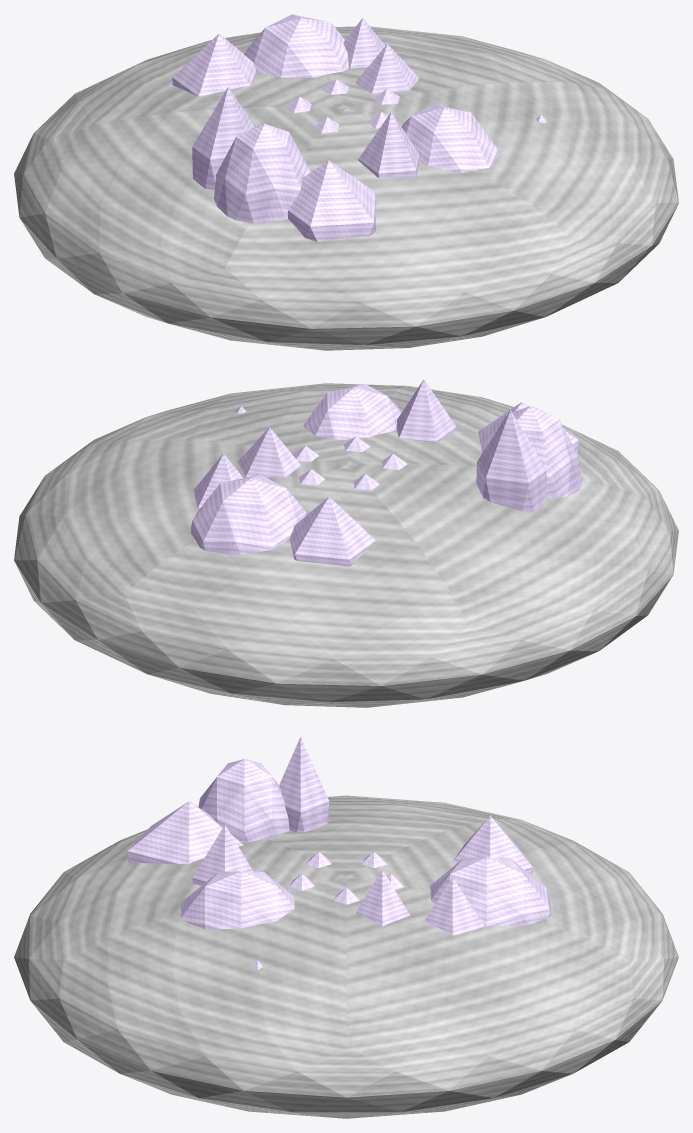
Rendered from sam_node_variant_d.glb.
3 views of the same model, one above another, from view 1: azimuth 30°, elevation 25°; view 2: azimuth 150°, elevation 25°; view 3: azimuth 270°, elevation 25° (orthographic).
Parts seen in each view (by area): view 1: Resource node bedrock.003, Exposed ore formation.043, Exposed ore formation.044, Exposed ore formation.037, Exposed ore formation.046, Exposed ore formation.039, Exposed ore formation.042, Exposed ore formation.045, Exposed ore formation.035, Exposed ore formation.036; view 2: Resource node bedrock.003, Exposed ore formation.037, Exposed ore formation.042, Exposed ore formation.046, Exposed ore formation.039, Exposed ore formation.043, Exposed ore formation.045, Exposed ore formation.035, Exposed ore formation.036, Exposed ore formation.044; view 3: Resource node bedrock.003, Exposed ore formation.037, Exposed ore formation.043, Exposed ore formation.046, Exposed ore formation.044, Exposed ore formation.042, Exposed ore formation.039, Exposed ore formation.036, Exposed ore formation.045, Exposed ore formation.035.
Part boxes in pixels (x1,y1,x2,y2): Resource node bedrock.003: [14, 26, 678, 350]; Exposed ore formation.043: [214, 123, 310, 223]; Exposed ore formation.044: [288, 160, 375, 241]; Exposed ore formation.037: [244, 14, 348, 77]; Exposed ore formation.046: [401, 103, 498, 172]; Exposed ore formation.039: [172, 33, 256, 96]; Exposed ore formation.042: [192, 86, 254, 189]; Exposed ore formation.045: [358, 111, 419, 178]; Exposed ore formation.035: [355, 44, 419, 93]; Exposed ore formation.036: [343, 18, 385, 68]; Resource node bedrock.003: [14, 383, 678, 707]; Exposed ore formation.037: [190, 474, 306, 554]; Exposed ore formation.042: [476, 410, 546, 511]; Exposed ore formation.046: [303, 383, 401, 439]; Exposed ore formation.039: [289, 496, 375, 566]; Exposed ore formation.043: [498, 406, 581, 498]; Exposed ore formation.045: [396, 379, 456, 442]; Exposed ore formation.035: [237, 427, 300, 477]; Exposed ore formation.036: [193, 453, 242, 508]; Exposed ore formation.044: [478, 401, 579, 453]; Resource node bedrock.003: [14, 795, 678, 1118]; Exposed ore formation.037: [430, 857, 551, 926]; Exposed ore formation.043: [198, 759, 289, 842]; Exposed ore formation.046: [180, 871, 294, 929]; Exposed ore formation.044: [127, 801, 243, 864]; Exposed ore formation.042: [279, 736, 329, 832]; Exposed ore formation.039: [452, 816, 532, 873]; Exposed ore formation.036: [424, 877, 484, 935]; Exposed ore formation.045: [192, 825, 253, 885]; Exposed ore formation.035: [356, 869, 409, 926].
Size of what is drawn, in the model's own units: 6.4 by 2.47 by 6.4.
Materials: 2 (2 with a texture image).
